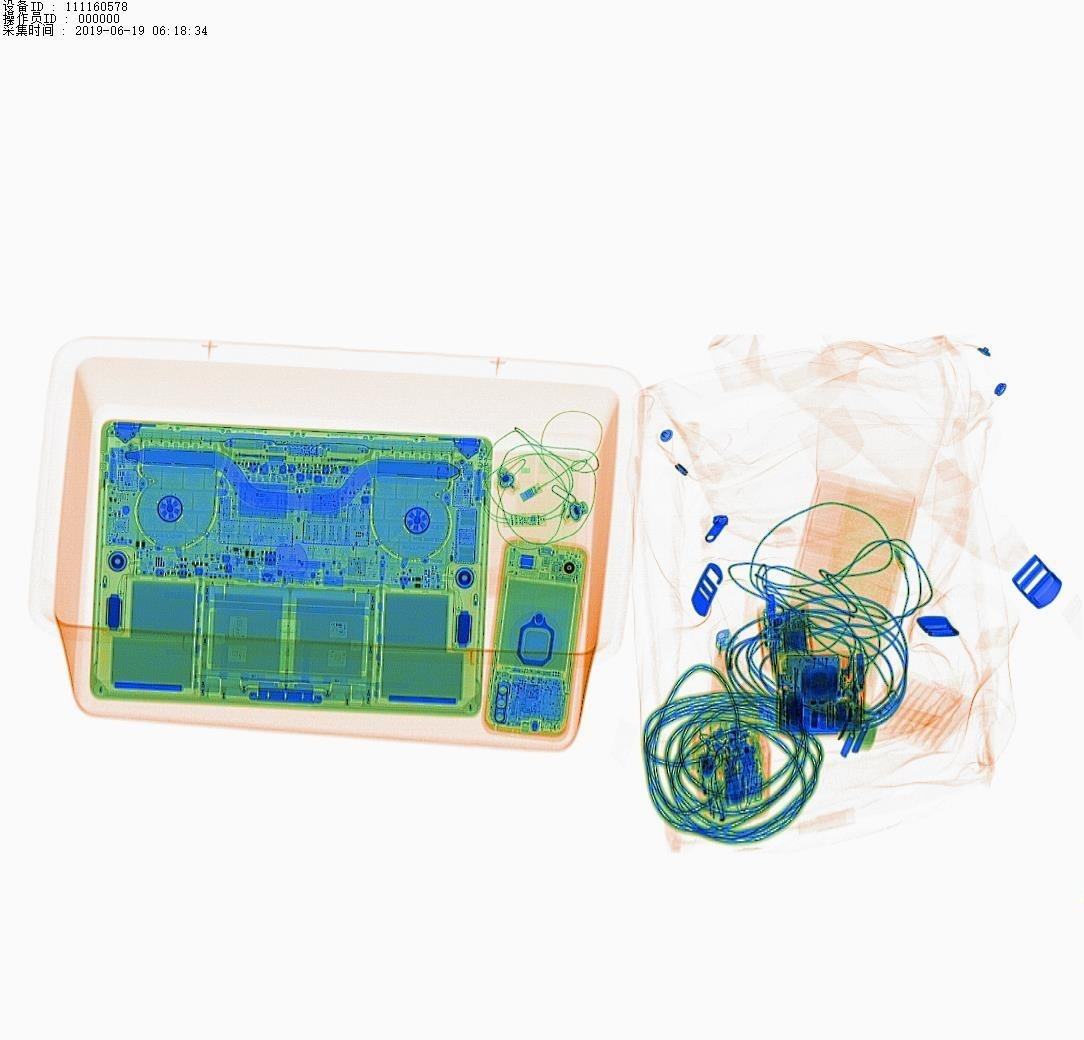NonmetallicFire: (690, 607, 752, 713)
